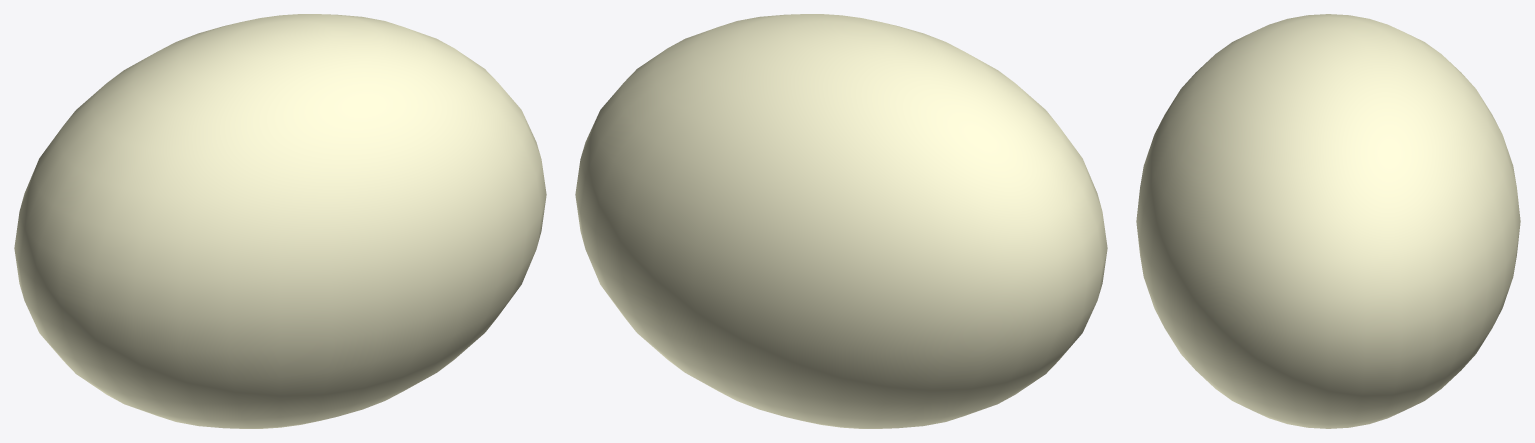
3 views of the same model, side by side, from view 1: azimuth 30°, elevation 25°; view 2: azimuth 150°, elevation 25°; view 3: azimuth 270°, elevation 25° (orthographic). The views are drawn at different scales.
Parts seen in each view (by area): view 1: item; view 2: item; view 3: item.
Part boxes in pixels (box(x1,y1,x2,y2)): item: box(14, 14, 546, 428); item: box(575, 14, 1107, 428); item: box(1136, 14, 1520, 428).
Bounding box in the file's own units: 0.00954 × 0.00687 × 0.00687.
